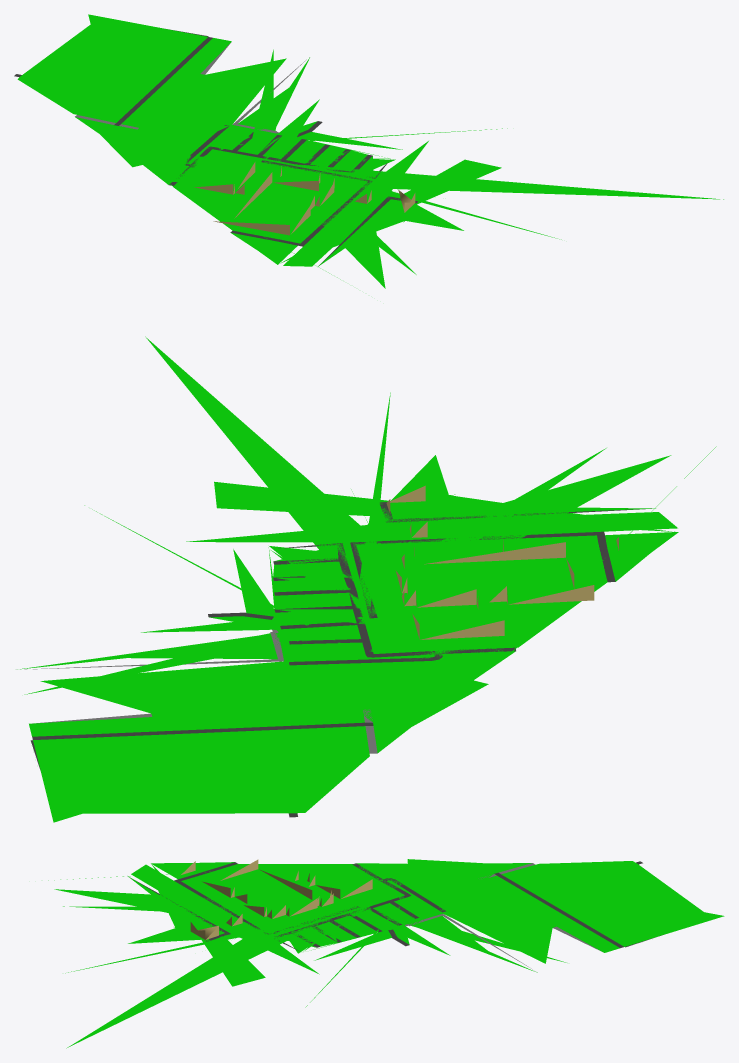
3 renders of one model, top to bottom at view 1: azimuth 30°, elevation 25°; view 2: azimuth 150°, elevation 25°; view 3: azimuth 270°, elevation 25°, orthographic. The views are drawn at different scales.
Bounding box in the file's own units: 308 × 7.5 × 488.
